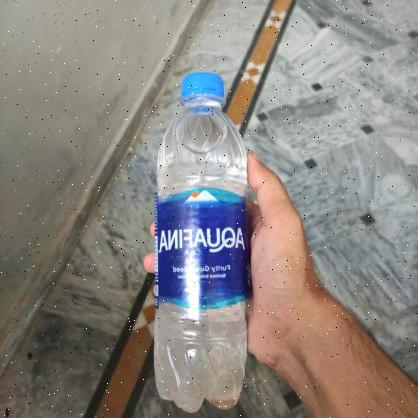bottle: (150, 66, 250, 412)
cap: (180, 70, 222, 106)
label: (154, 196, 246, 308)
